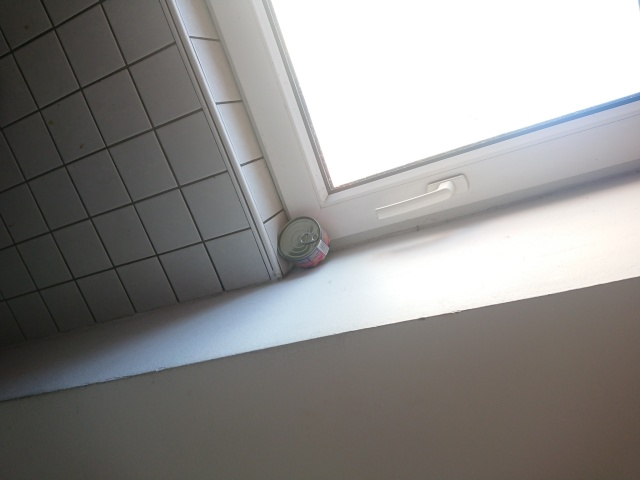Giana Tuna Salad Mexico 185g: (276, 214, 332, 271)
